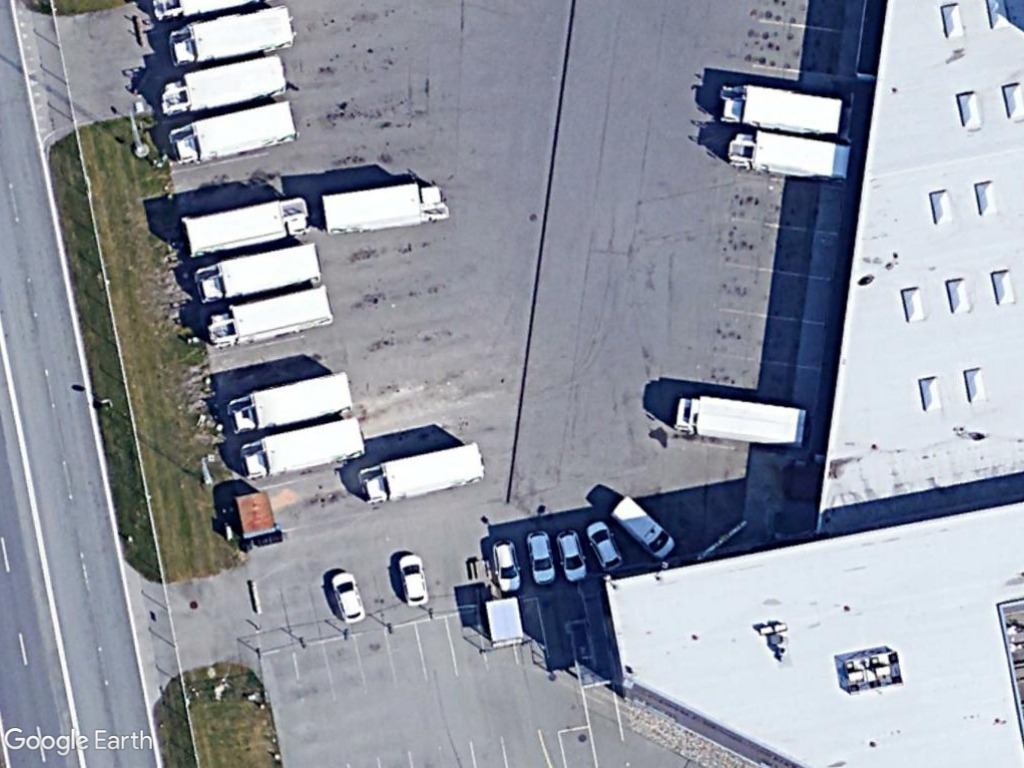car: (329, 566, 370, 627), (584, 514, 623, 574), (395, 553, 434, 612), (553, 527, 591, 584), (522, 526, 557, 584), (491, 538, 525, 596)
truck: (221, 367, 362, 441), (201, 278, 338, 351), (237, 409, 368, 485), (165, 1, 301, 73), (190, 237, 324, 310), (166, 99, 303, 169), (357, 438, 487, 507), (158, 50, 291, 117), (725, 119, 854, 187), (671, 390, 811, 451), (318, 174, 453, 236), (715, 81, 849, 142)
van: (610, 492, 674, 563)
